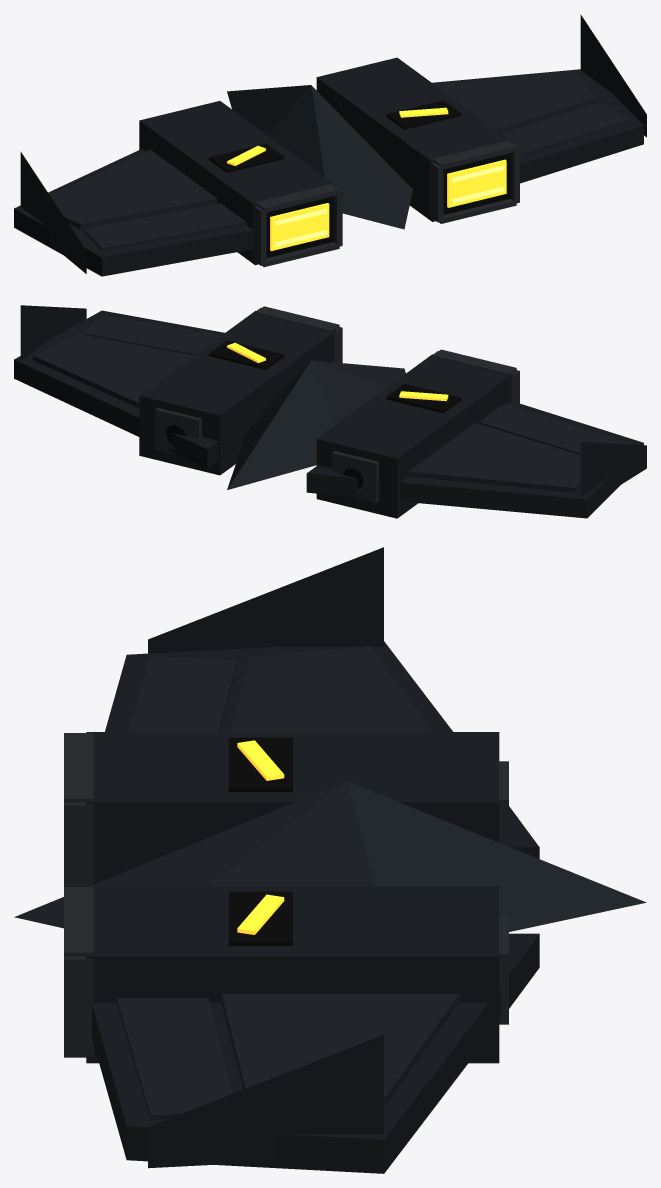
File: comet.glb
3 views of the same model, one above another, from view 1: azimuth 30°, elevation 25°; view 2: azimuth 150°, elevation 25°; view 3: azimuth 270°, elevation 25° (orthographic). The views are drawn at different scales.
Parts seen in each view (by area): view 1: Charcoal_coating, Armor_panels, Recess_bezels, Recess_interior, Marigold_emission, Engine_core; view 2: Charcoal_coating, Armor_panels, Recess_bezels, Recess_interior, Marigold_emission; view 3: Charcoal_coating, Armor_panels, Recess_bezels, Recess_interior, Marigold_emission.
Boxes of the visible parts, x1=… form: Charcoal_coating: x1=14, y1=14, x2=646, y2=276; Armor_panels: x1=50, y1=70, x2=630, y2=250; Recess_bezels: x1=252, y1=140, x2=519, y2=267; Recess_interior: x1=209, y1=100, x2=511, y2=257; Marigold_emission: x1=227, y1=107, x2=506, y2=251; Engine_core: x1=274, y1=165, x2=504, y2=246; Charcoal_coating: x1=14, y1=305, x2=646, y2=518; Armor_panels: x1=33, y1=314, x2=630, y2=492; Recess_bezels: x1=155, y1=306, x2=519, y2=503; Recess_interior: x1=166, y1=340, x2=461, y2=488; Marigold_emission: x1=227, y1=342, x2=448, y2=401; Charcoal_coating: x1=86, y1=547, x2=539, y2=1173; Armor_panels: x1=14, y1=646, x2=646, y2=1120; Recess_bezels: x1=64, y1=733, x2=508, y2=1057; Recess_interior: x1=228, y1=737, x2=292, y2=945; Marigold_emission: x1=237, y1=740, x2=284, y2=934.
Bounding box in the file's own units: 2.2 × 0.37 × 1.18.
